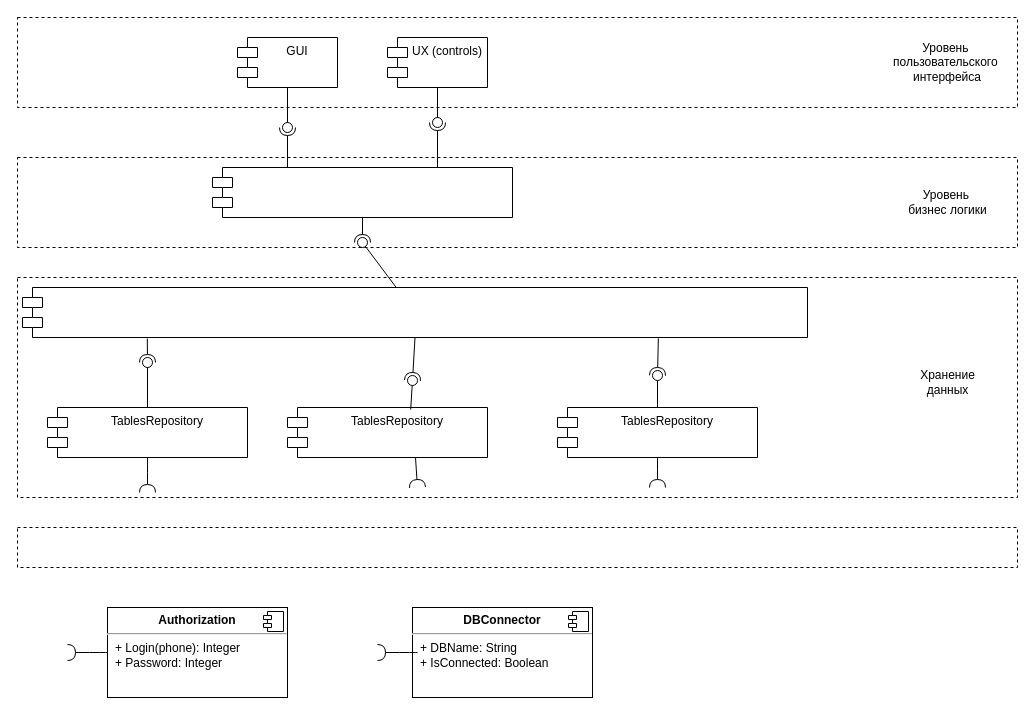
This 1035x715 diagram has some shape labels left out. The shapes that lost their labels are listed below. From the top down, each one's centre as x and y in pixels, then its label:
At point (362, 192): "Presenter".
At point (415, 312): "Model".
At point (517, 547): "Данные о бронировании столиков, о посетителях и описание столиков".
